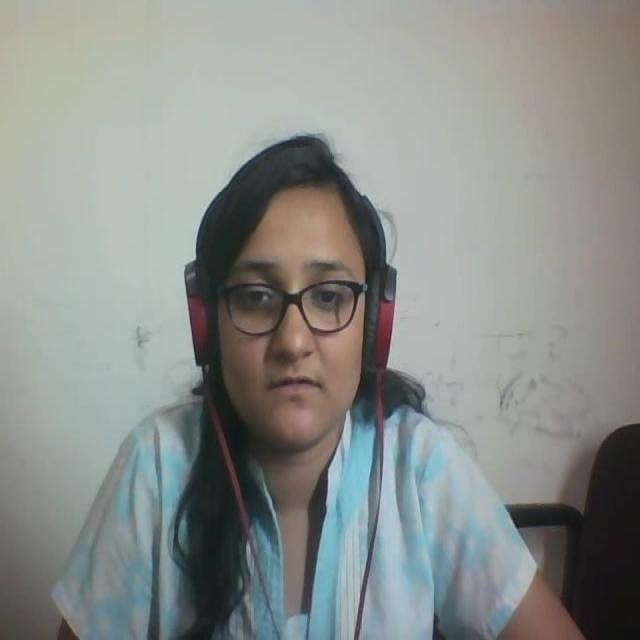Engaged: (156, 110, 402, 467)
